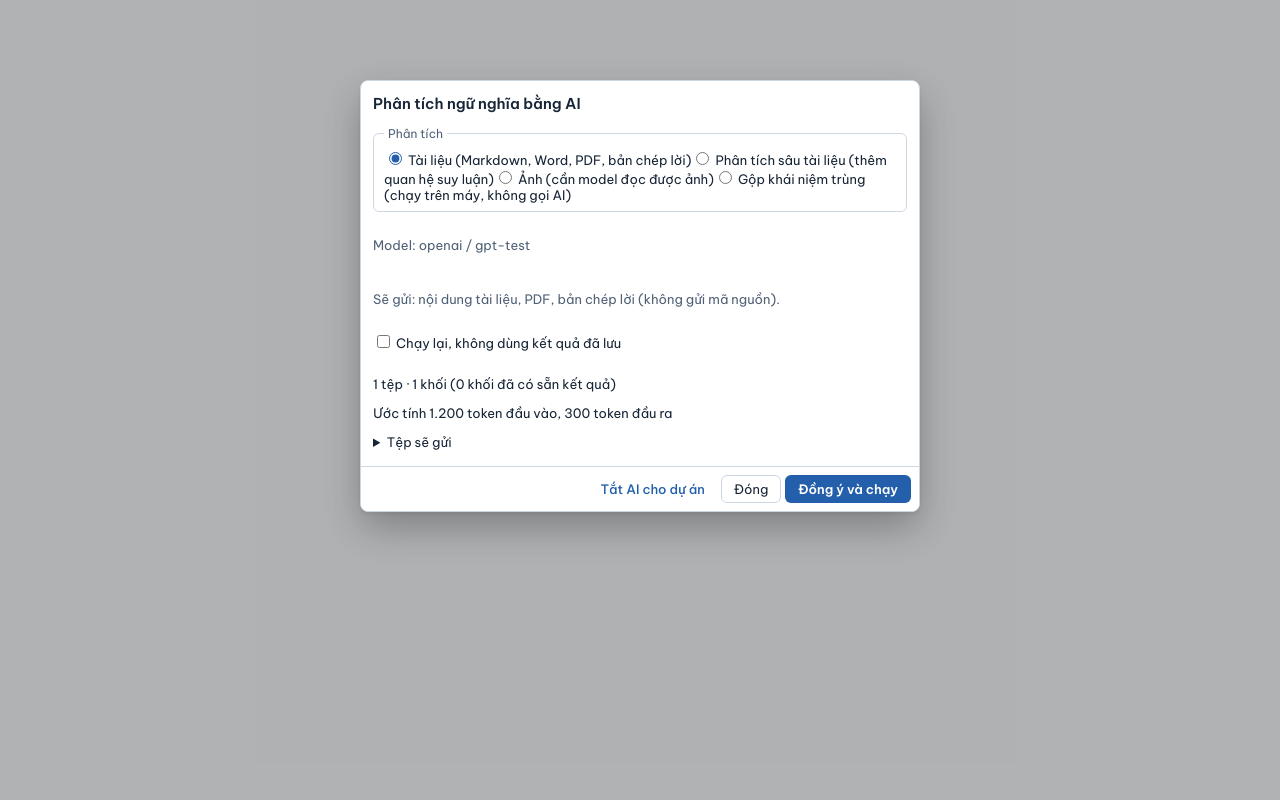
Test: SemanticDialog — sửa sau kiểm thử › M2: dedup khi AI đang bật vẫn là nút chạy trên máy, không phải "Đồng ý và chạy"
What coordinates should you click on to do the following:
click the radio button labelled "Gộp khái niệm trùng (chạy trên máy, không gọi AI)"
I would click on:
 (725, 178)
Its box is [719,171,732,184].
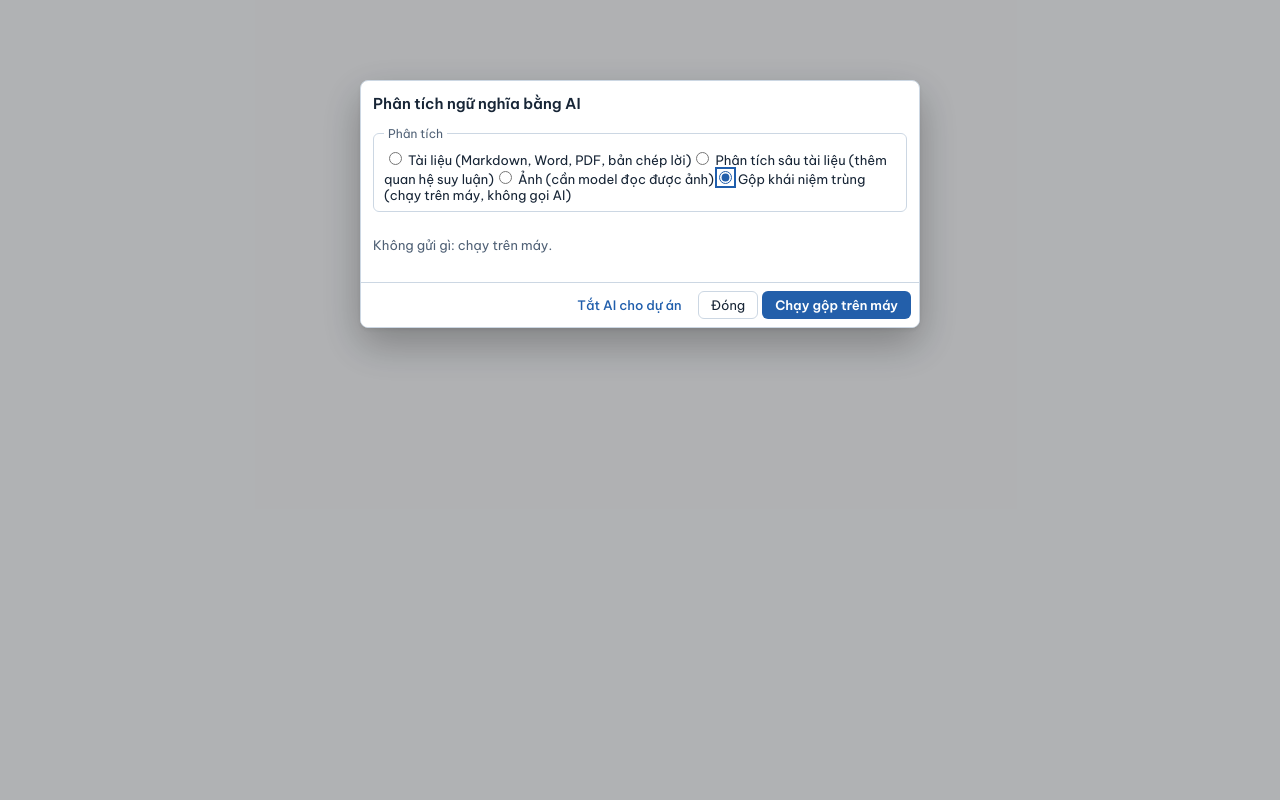
Expected: the button "Chạy gộp trên máy" is enabled, [762,291,911,319]
Expected: the text "Không gửi gì: chạy trên máy." is shown, [373,237,552,253]
Expected: the button "Đồng ý và chạy" is gone
